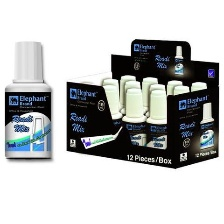book: (63, 37, 220, 170)
correction_fluid: (3, 39, 53, 163), (143, 88, 178, 161), (118, 84, 151, 158), (91, 83, 123, 153)
